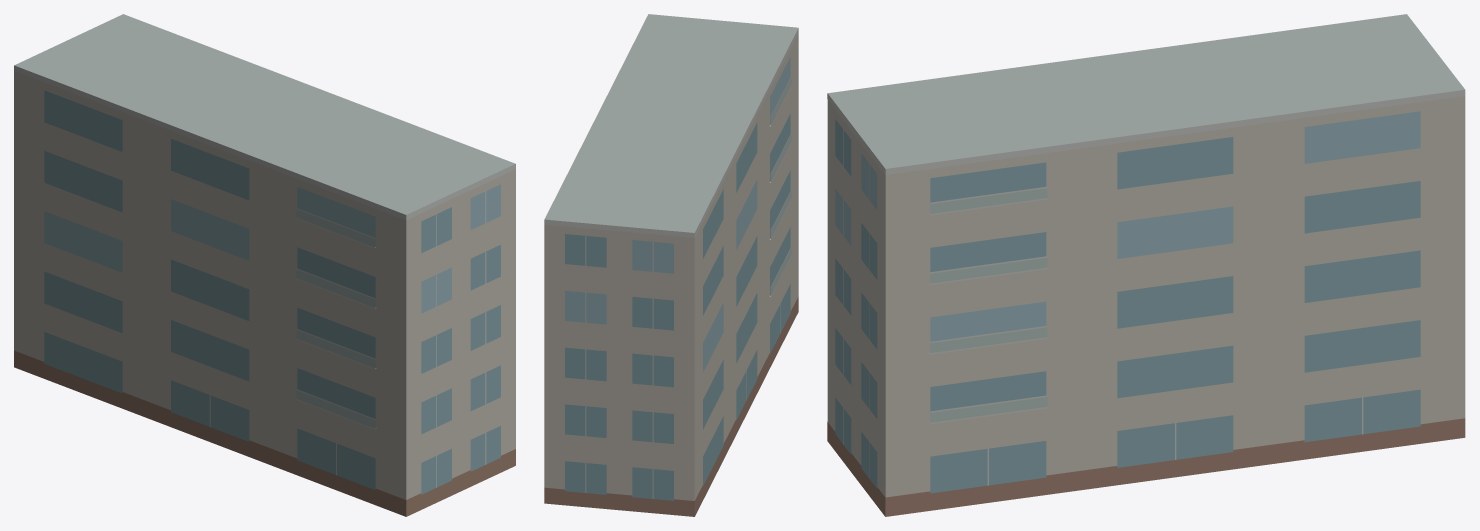
File: survey-upis-32927226.glb
3 renders of one model, left to right at view 1: azimuth 30°, elevation 25°; view 2: azimuth 150°, elevation 25°; view 3: azimuth 270°, elevation 25°, orthographic. The views are drawn at different scales.
Visible parts, largest first — view 1: survey-upis-32927226.tmp; view 2: survey-upis-32927226.tmp; view 3: survey-upis-32927226.tmp.
Boxes of the visible parts, bbox=[...] form: survey-upis-32927226.tmp: bbox=[14, 14, 515, 516]; survey-upis-32927226.tmp: bbox=[544, 14, 798, 516]; survey-upis-32927226.tmp: bbox=[827, 14, 1465, 516].
Size of the model in its own units: 13.14 by 13.75 by 22.85.
